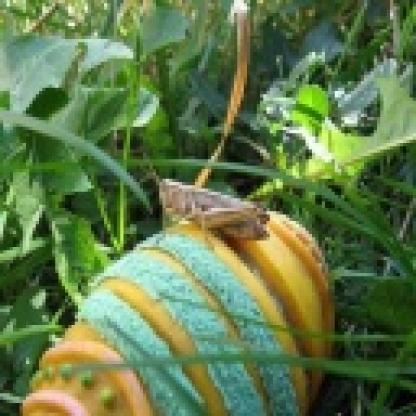grasshopper: (153, 166, 278, 248)
